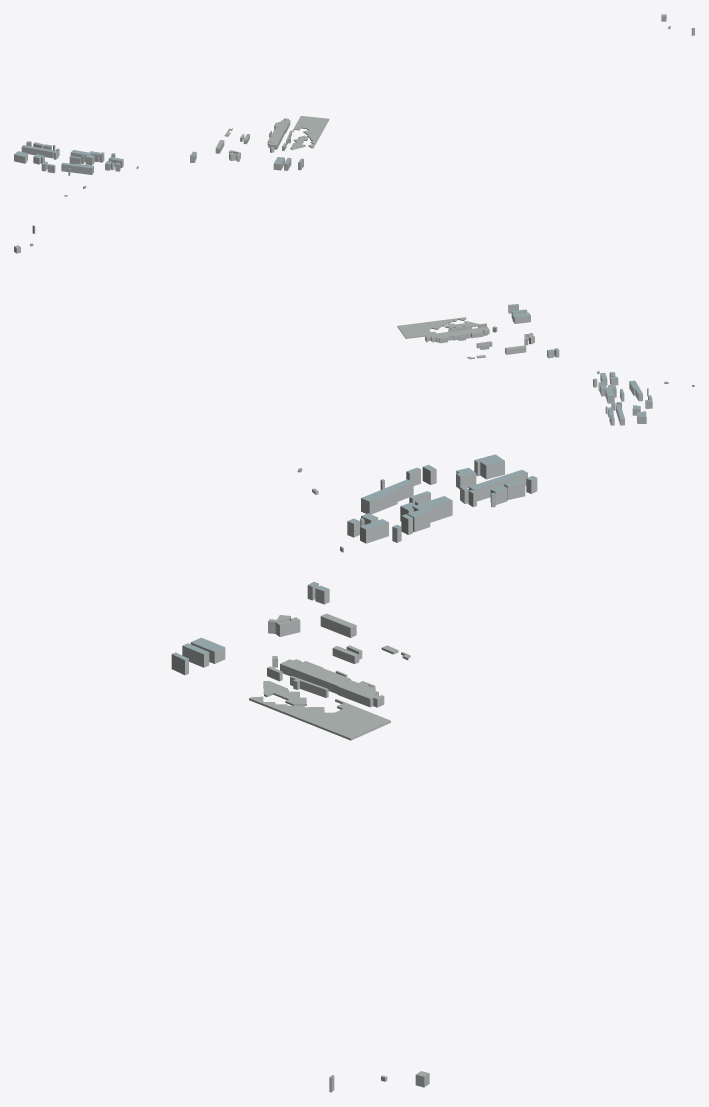
3 views of the same model, one above another, from view 1: azimuth 30°, elevation 25°; view 2: azimuth 150°, elevation 25°; view 3: azimuth 270°, elevation 25° (orthographic). The views are drawn at different scales.
Parts seen in each view (by area): view 1: 上海全域建筑分块 · mapped building neighborhood; view 2: 上海全域建筑分块 · mapped building neighborhood; view 3: 上海全域建筑分块 · mapped building neighborhood.
Boxes of the visible parts, x1,y1,x2,y2 form: 上海全域建筑分块 · mapped building neighborhood: (14,14,694,196); 上海全域建筑分块 · mapped building neighborhood: (14,225,694,425); 上海全域建筑分块 · mapped building neighborhood: (171,454,537,1092).
Bounding box in the file's own units: 1981 × 23.31 × 490.
